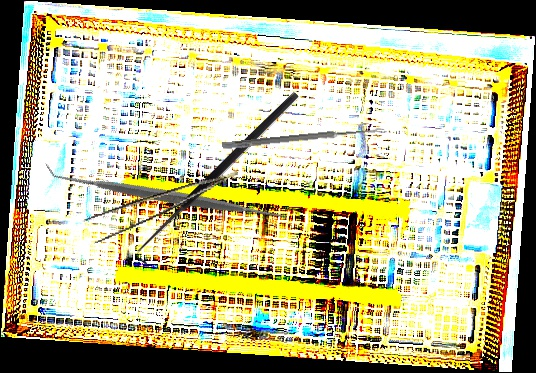Hook Surgical: (131, 90, 308, 267)
Spatula Surgical: (45, 72, 293, 320)
Surgical Spoon: (222, 125, 385, 151)
Tissue Forceps: (79, 170, 246, 246)
